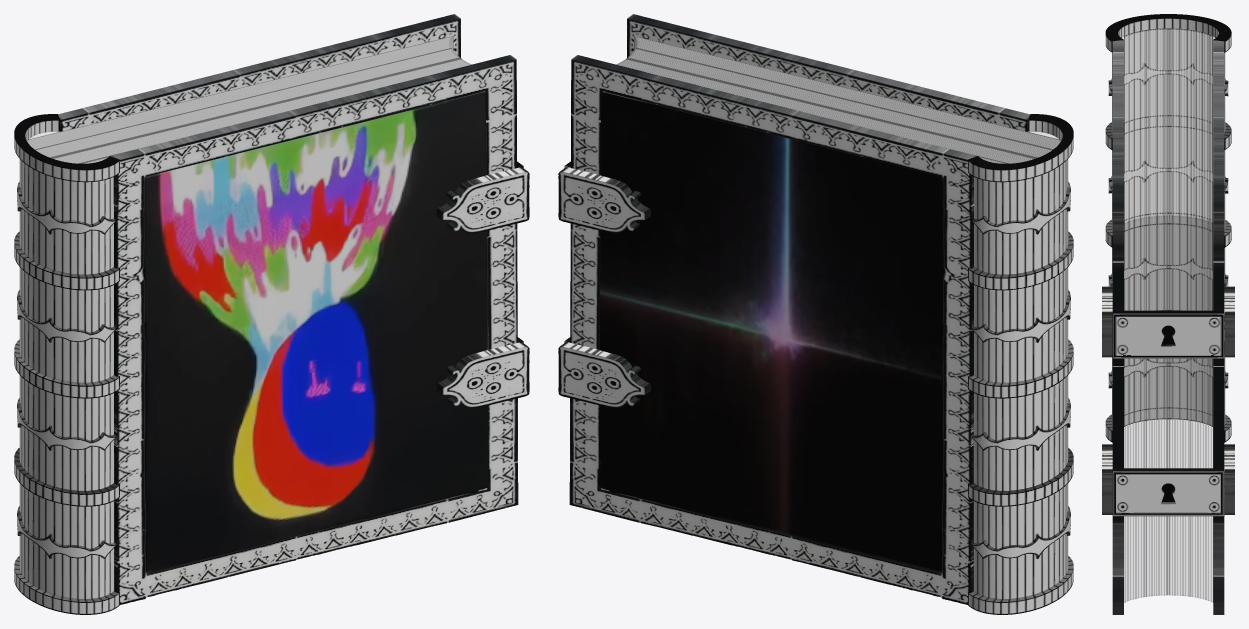
The model's file is botr.glb.
The picture shows the model from 3 angles, left to right: view 1: azimuth 30°, elevation 25°; view 2: azimuth 150°, elevation 25°; view 3: azimuth 270°, elevation 25°; orthographic projection. The views are drawn at different scales.
Visible parts, largest first — view 1: bookoftruth, BOTR _Side.001, BOTR_Front, BOTR_Front.001, BOTR_Front.002, BOTR_Front.003; view 2: BOTR_back, BOTR _Side.001, BOTR_Front.001, BOTR_Front, BOTR_Front.007, BOTR_Front.006; view 3: BOTR _Side.001, BOTR_Front.001, BOTR_Front, BOTR_Lock, BOTR_Lock.001, BOTR_Page.039, BOTR_Page.059, BOTR_Page.075, BOTR_Page.084, BOTR_Page.093, BOTR_Page.048, BOTR_Page.068 (+98 smaller).
Part boxes in pixels (<box>): bookoftruth: <box>144,91,487,572</box>; BOTR _Side.001: <box>14,114,119,614</box>; BOTR_Front: <box>110,55,518,604</box>; BOTR_Front.001: <box>58,14,460,131</box>; BOTR_Front.002: <box>436,167,529,233</box>; BOTR_Front.003: <box>436,342,529,408</box>; BOTR_back: <box>599,91,943,573</box>; BOTR _Side.001: <box>968,114,1073,614</box>; BOTR_Front.001: <box>569,55,977,604</box>; BOTR_Front: <box>627,14,1029,131</box>; BOTR_Front.007: <box>558,342,650,408</box>; BOTR_Front.006: <box>558,167,650,233</box>; BOTR _Side.001: <box>1105,14,1231,442</box>; BOTR_Front.001: <box>1213,40,1224,614</box>; BOTR_Front: <box>1112,40,1123,614</box>; BOTR_Lock: <box>1112,310,1224,358</box>; BOTR_Lock.001: <box>1112,468,1224,516</box>; BOTR_Page.039: <box>1135,32,1136,598</box>; BOTR_Page.059: <box>1189,30,1190,596</box>; BOTR_Page.075: <box>1182,29,1183,595</box>; BOTR_Page.084: <box>1158,29,1159,595</box>; BOTR_Page.093: <box>1174,29,1175,595</box>; BOTR_Page.048: <box>1197,31,1198,597</box>; BOTR_Page.068: <box>1151,29,1152,595</box>.
Size of the model in its own units: 1.09 by 1.01 by 0.2999.
114 materials, 114 textured.
